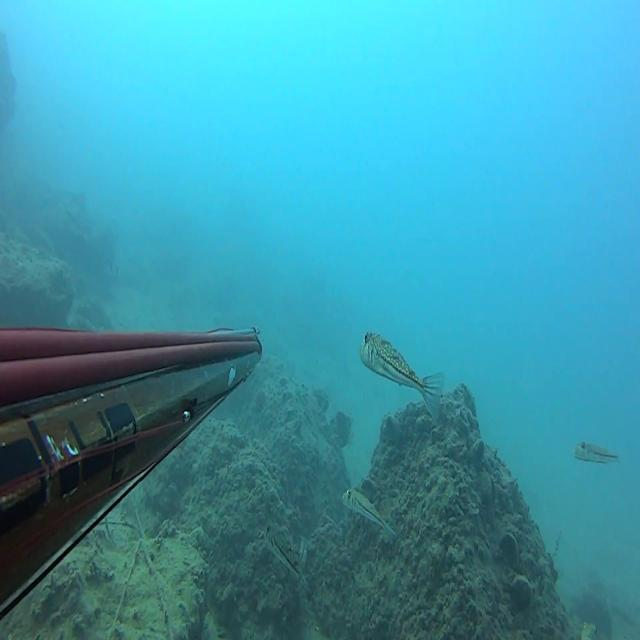Balon Baligi: (360, 330, 445, 421), (264, 522, 310, 590), (342, 489, 396, 539), (574, 441, 621, 463), (581, 621, 599, 640)
